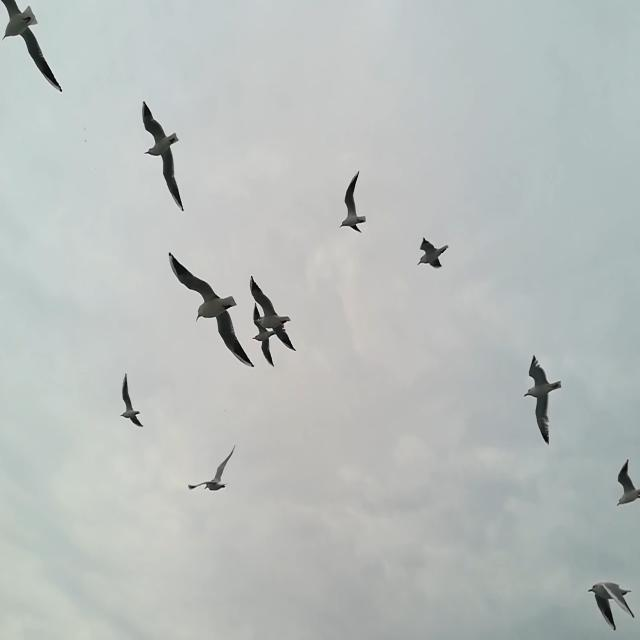bird: (1, 2, 64, 94), (168, 253, 244, 322), (140, 102, 182, 212), (251, 277, 298, 363), (199, 304, 255, 366), (523, 357, 560, 444), (188, 446, 240, 492), (588, 583, 634, 631), (339, 171, 364, 231), (119, 375, 145, 430), (615, 459, 640, 507), (419, 238, 449, 267)
